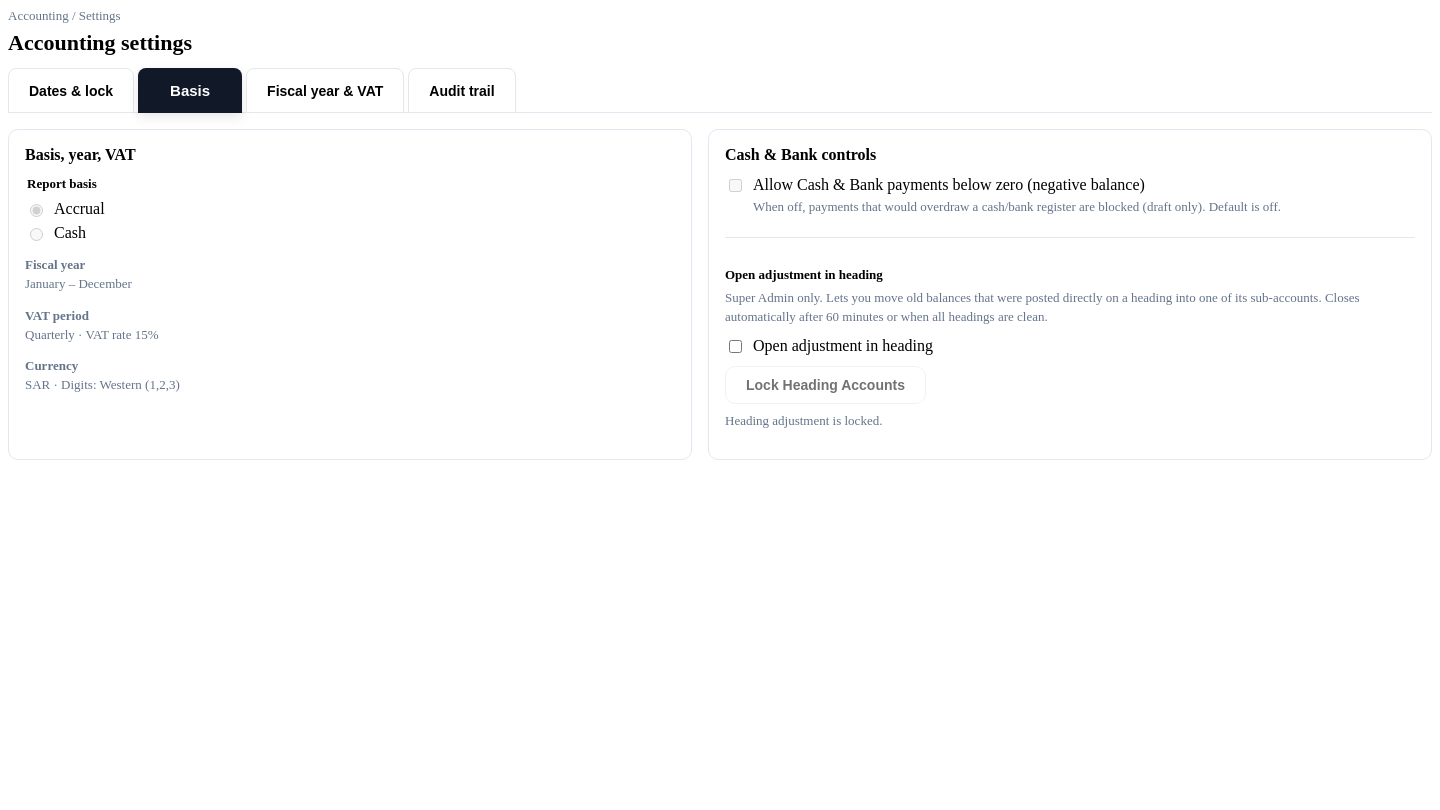
Test: WorkshopAccountingSettings heading toggle dialog › confirm disabled for short reason, enabled for long
The width and height of the screenshot is (1440, 810).
Later steps or results of the test are not shown.
Click the checkbox with test id "heading-reclass-open-checkbox" at (736, 346), box [729,340,742,352]
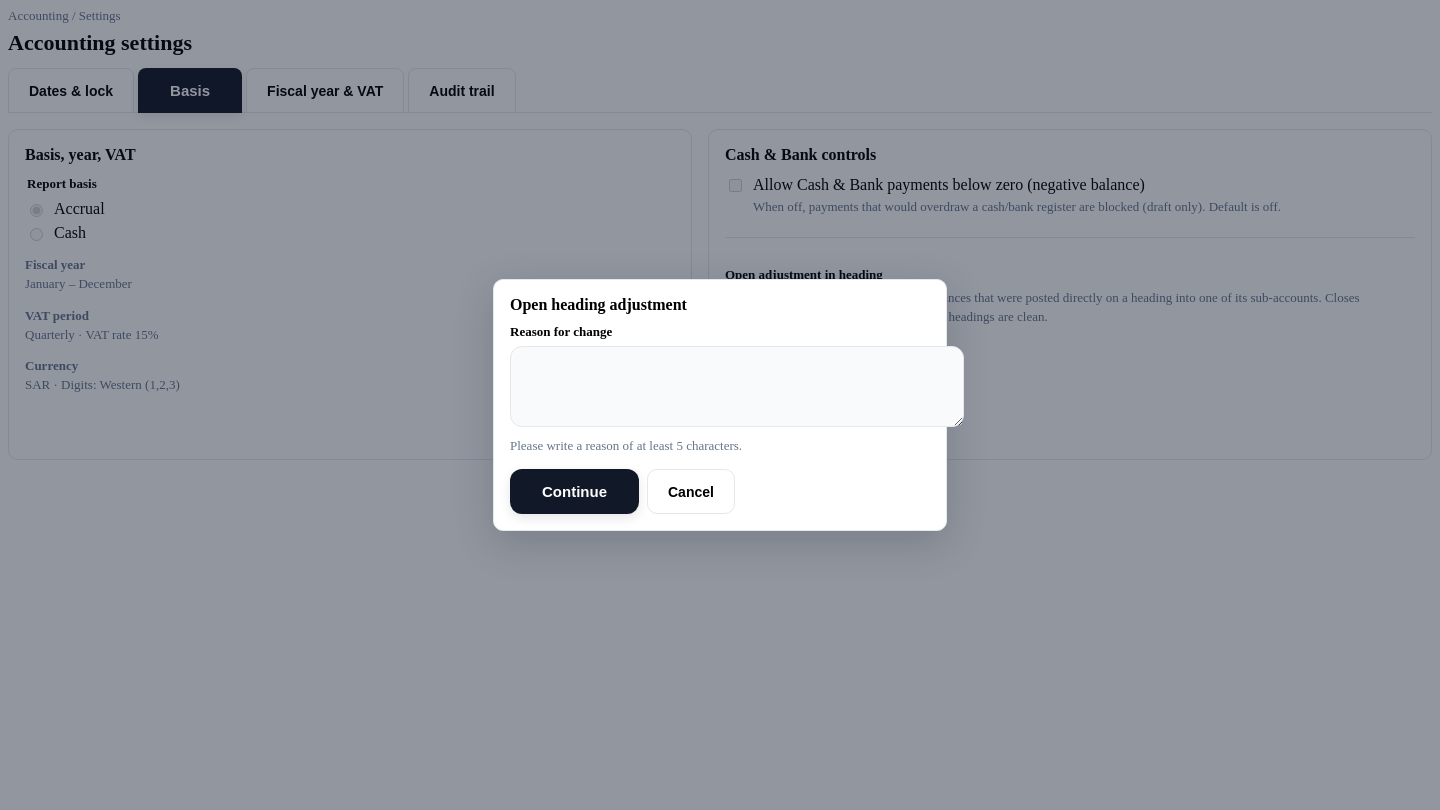
Type "abc" into the text box with test id "heading-reclass-reason" at (737, 386), box [510,346,964,427]
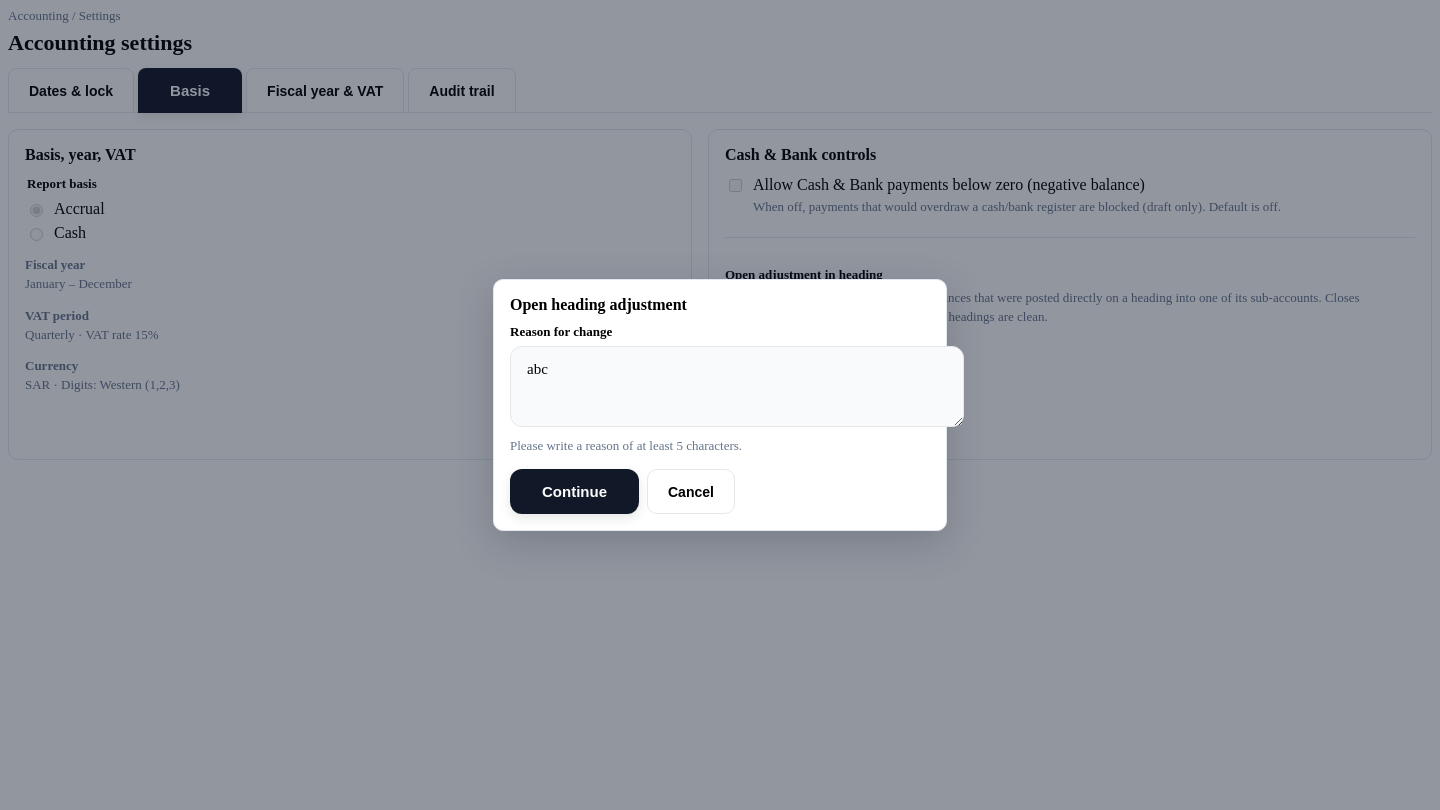
Check: the button with test id "heading-reclass-confirm" is disabled, box [510,469,639,514]
